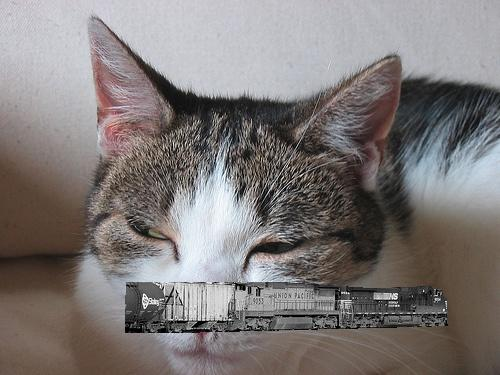tampered: (126, 283, 448, 333)
